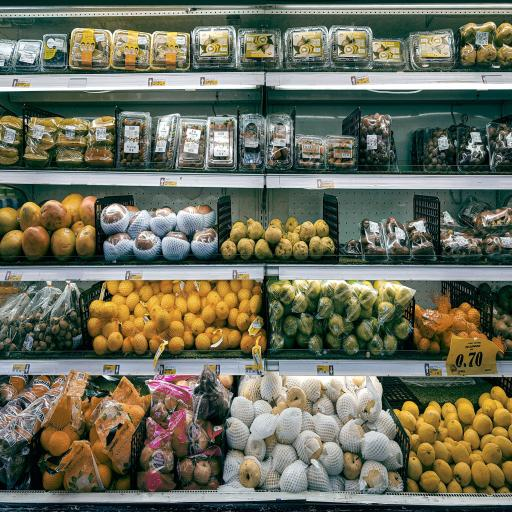road: (0, 169, 264, 188), (0, 262, 264, 281), (0, 357, 254, 375), (267, 264, 511, 281), (266, 173, 511, 189)
